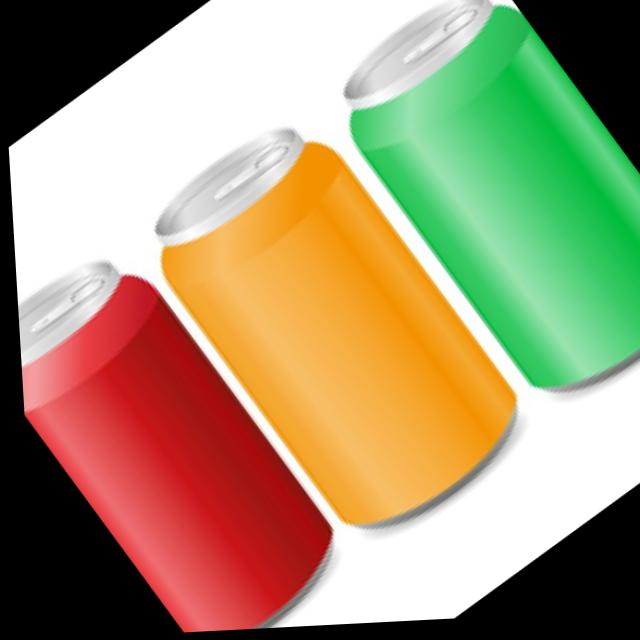aluminum_soda_cans: (113, 92, 535, 566), (302, 0, 640, 440), (11, 221, 354, 640)
